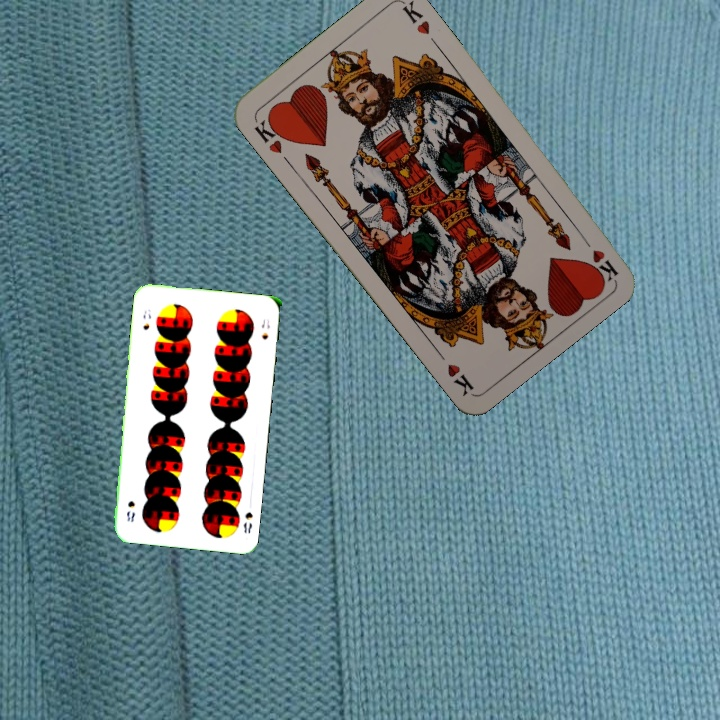HK: (576, 229, 621, 283), (250, 111, 290, 157)
S8: (240, 507, 255, 536), (139, 305, 154, 332)
